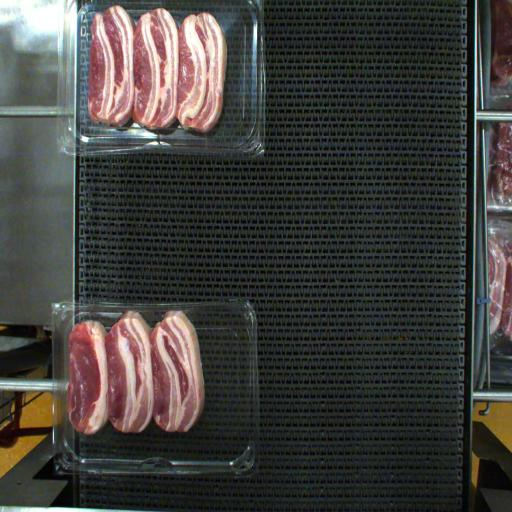packaging-error: (69, 296, 200, 332)
